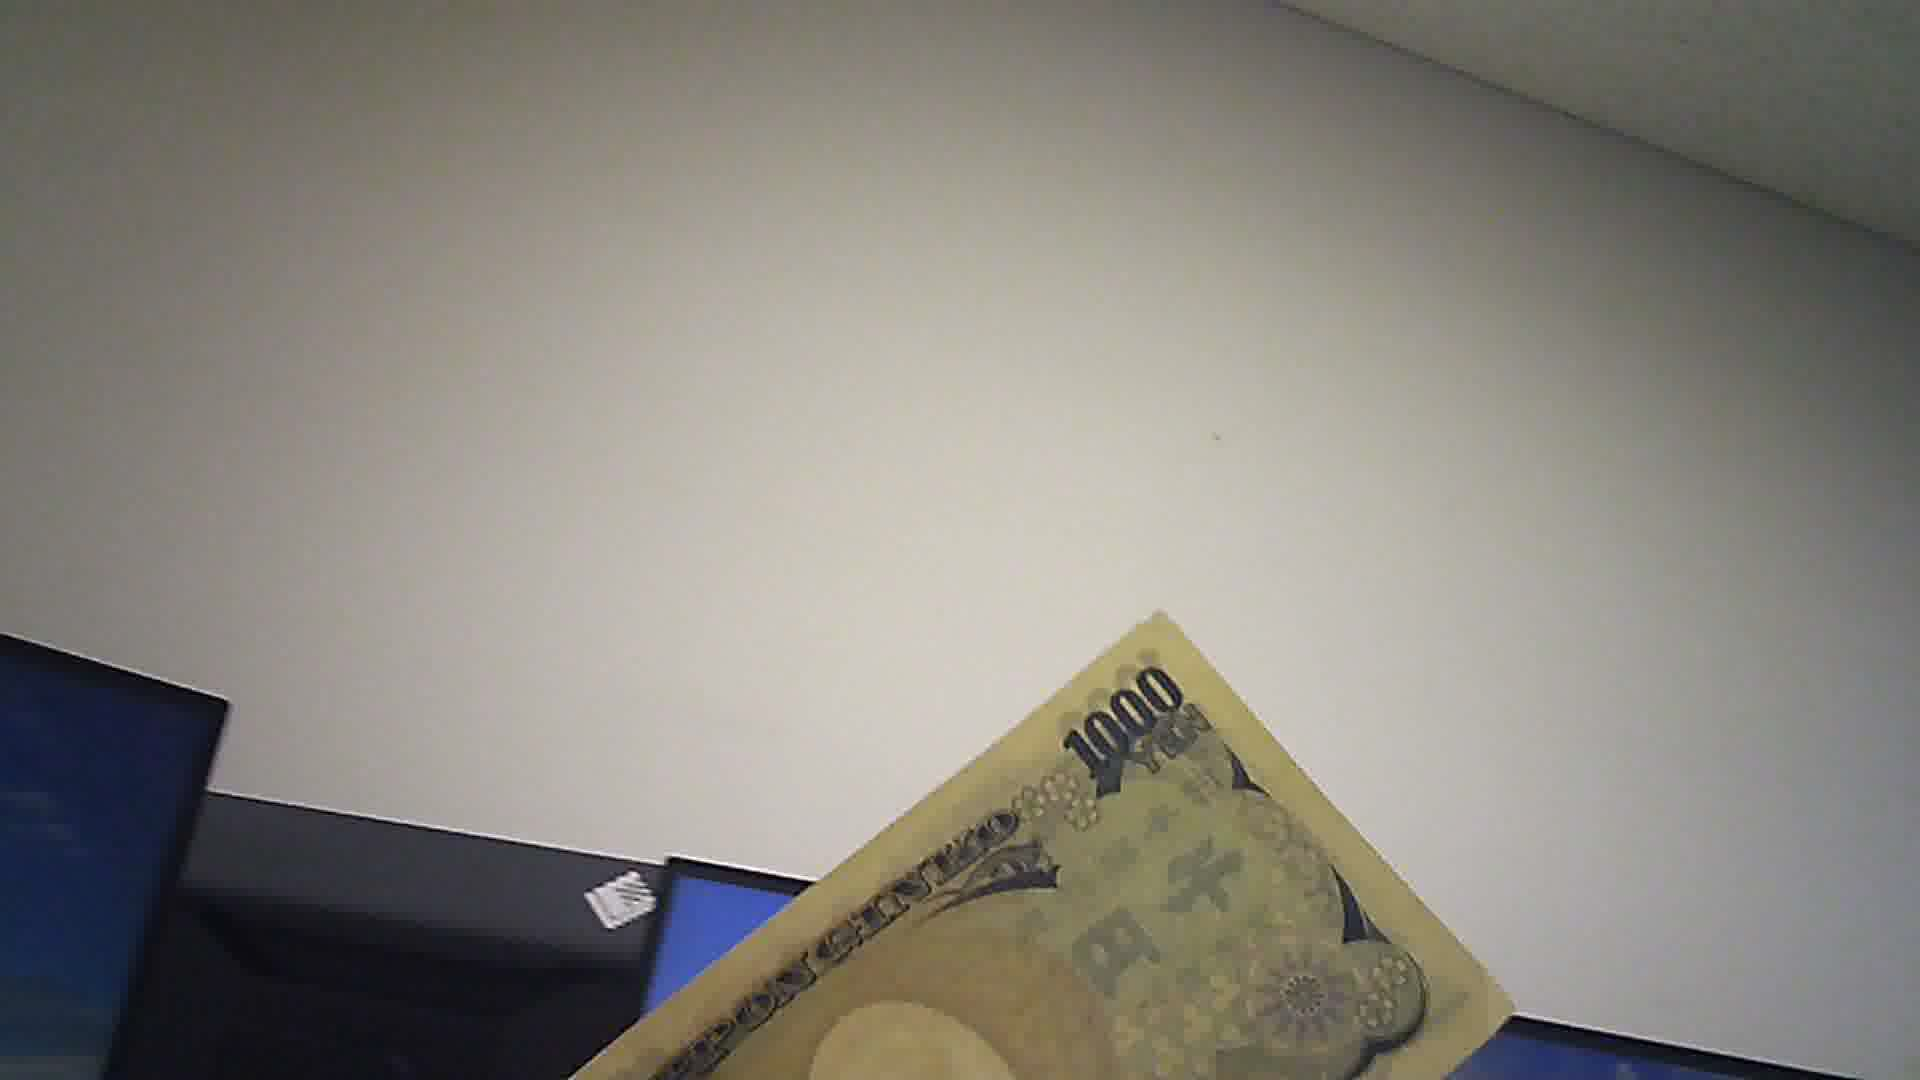1,000 Yen: (597, 597, 1505, 1079)
